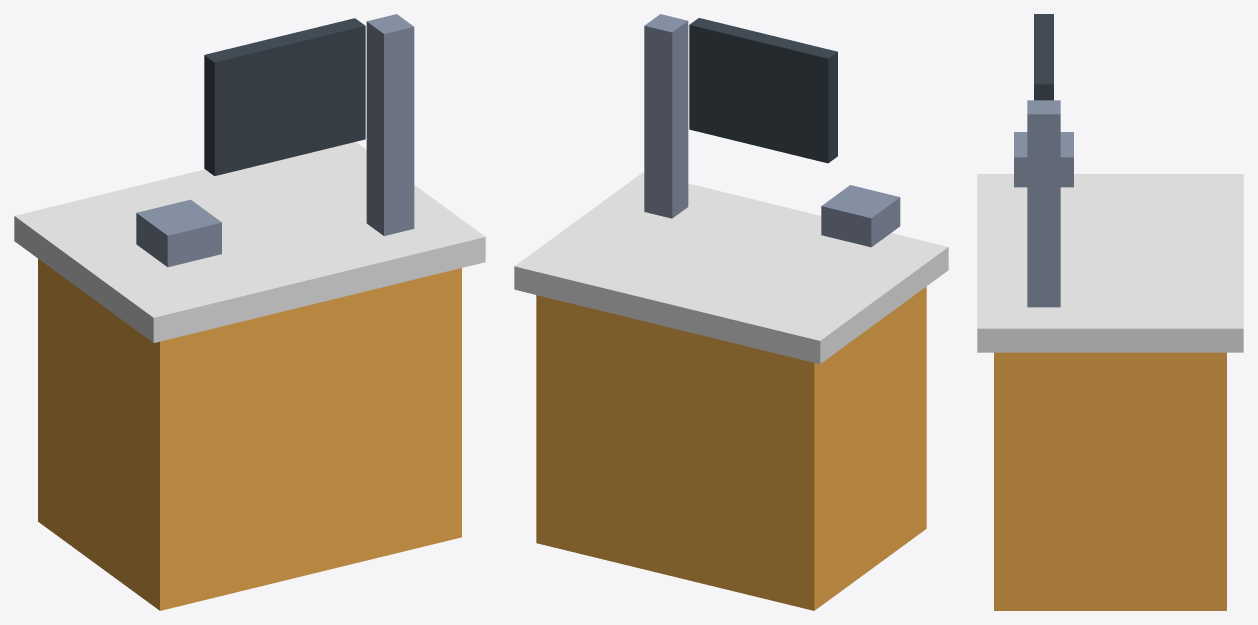
Rendered from VerificationStation.glb.
3 views of the same model, side by side, from view 1: azimuth 30°, elevation 25°; view 2: azimuth 150°, elevation 25°; view 3: azimuth 270°, elevation 25° (orthographic). The views are drawn at different scales.
Parts seen in each view (by area): view 1: Base, Counter, Screen, Post, Scanner; view 2: Base, Counter, Screen, Post, Scanner; view 3: Base, Counter, Post, Screen, Scanner.
Boxes of the visible parts, x1,y1,x2,y2 form: Base: (38,258,461,610); Counter: (14,142,485,342); Screen: (204,18,365,175); Post: (366,14,414,235); Scanner: (136,199,221,267); Base: (536,286,926,610); Counter: (514,172,948,363); Screen: (689,18,837,163); Post: (644,14,688,218); Scanner: (821,185,900,247); Base: (994,352,1226,610); Counter: (977,174,1243,352); Post: (1027,100,1060,307); Screen: (1034,14,1053,100); Scanner: (1014,132,1073,187).
Size of the model in its own units: 1.1 by 1.63 by 0.8.
